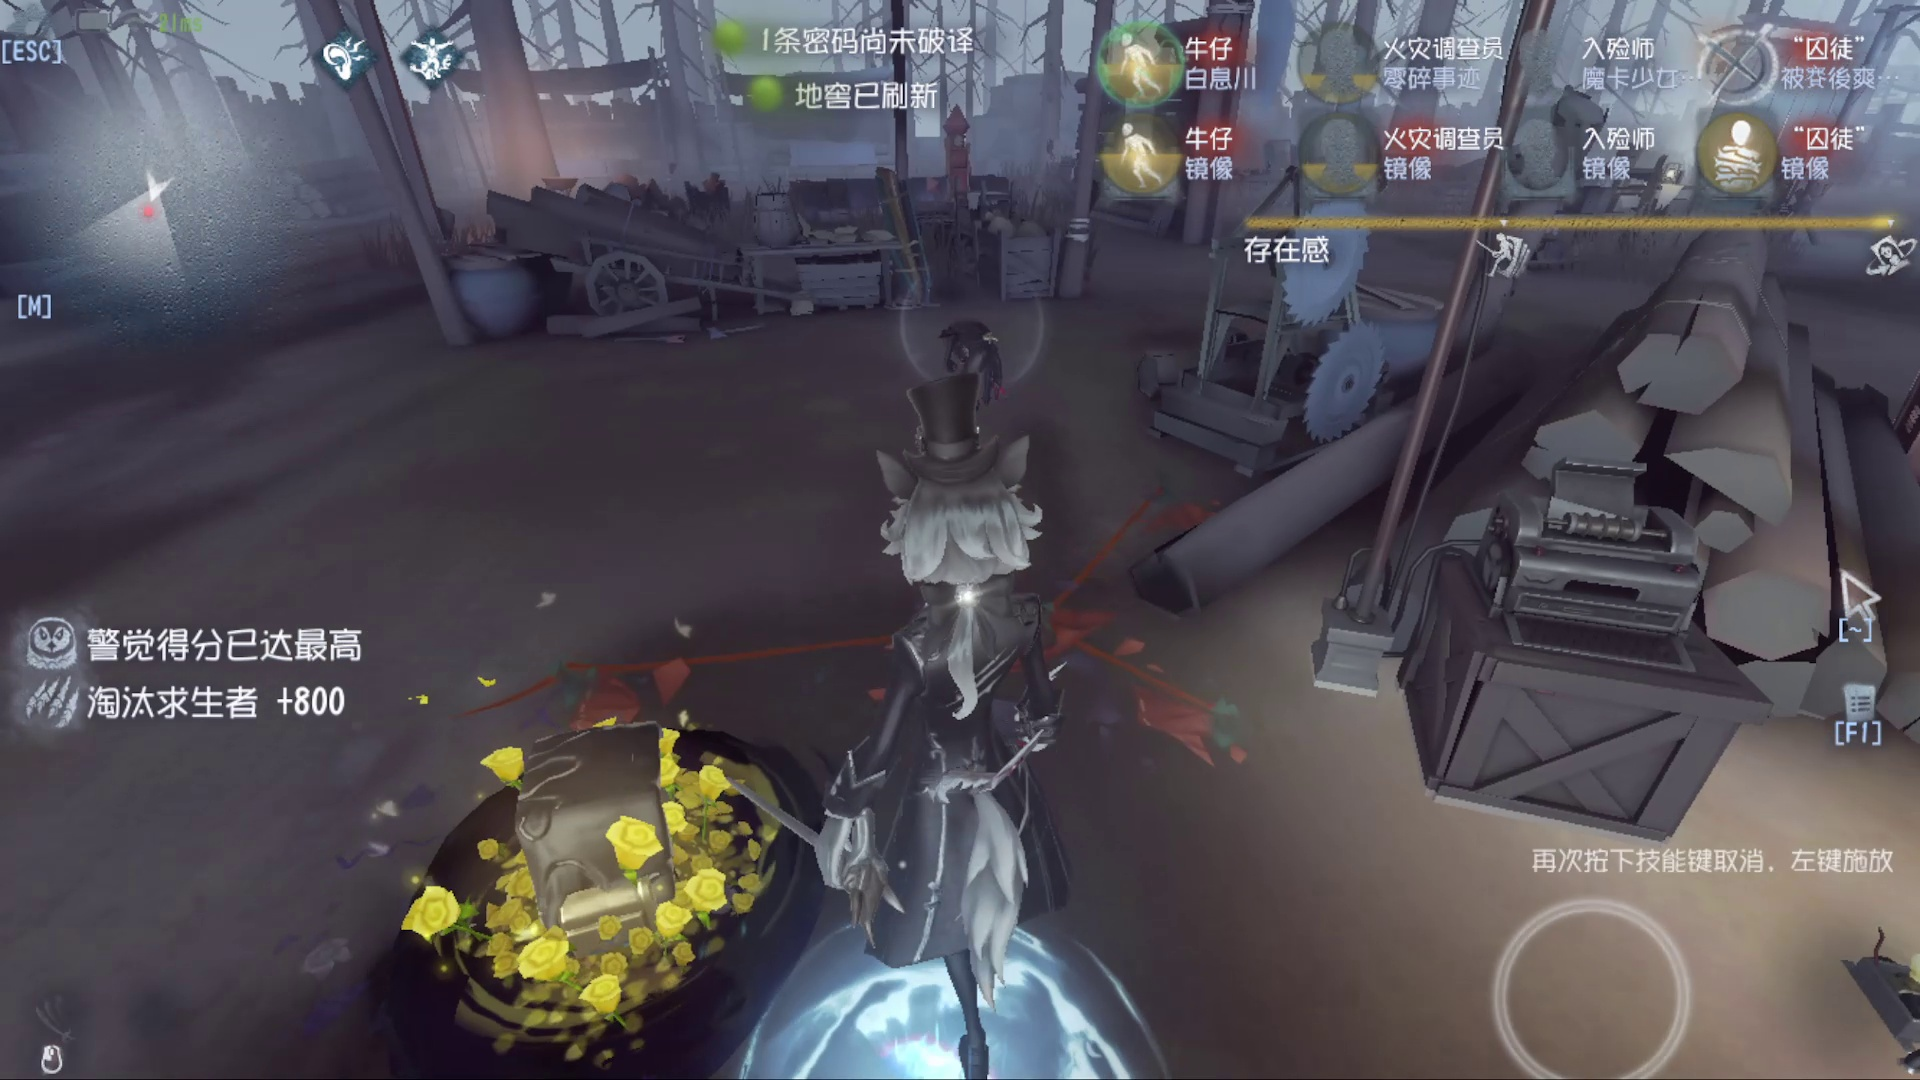密码机: (1344, 440, 1822, 852)
木板: (882, 166, 939, 319)
求生者: (909, 310, 1058, 404)
狂欢之椅: (934, 103, 996, 220)
